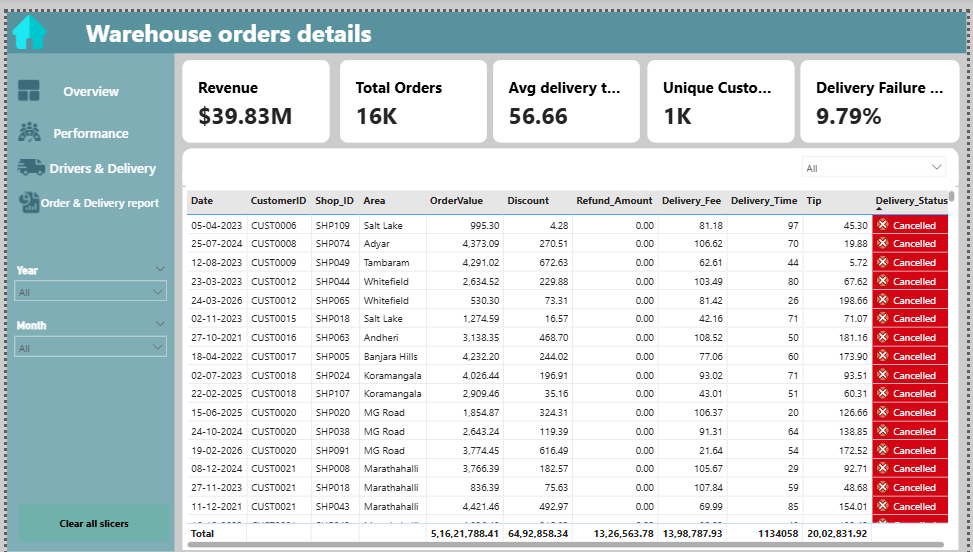

Layout of this report page (visuals, bound fields, positions):
{"tool":"powerbi","page":{"name":"Order & reports","canvas":[1280,720],"ordinal":4},"visuals":[{"type":"cardVisual","fields":{"Data":["Customers.Revenue"]},"box":[234.8,64.8,195.9,110.1],"z":0},{"type":"cardVisual","fields":{"Data":["Customers.Total Orders"]},"box":[443.7,64.8,195.9,110.1],"z":1000},{"type":"cardVisual","fields":{"Data":["Customers.Avg delivery time"]},"box":[647.7,64.8,195.9,110.1],"z":2000},{"type":"cardVisual","fields":{"Data":["Customers.Unique Customers"]},"box":[853.3,64.8,195.9,110.1],"z":3000},{"type":"cardVisual","fields":{"Data":["Customers.Delivery Failure Rate %"]},"box":[1057.4,64.8,212.1,110.1],"z":4000},{"type":"tableEx","fields":{"Values":["DateTable.Date","Orders.Customer_ID","Orders.Shop_ID","Customers.Area","Sum(Orders.Order_Value)","Sum(Orders.Discount)","Sum(Orders.Refund_Amount)","Sum(Orders.Delivery_Fee)","Sum(Orders.Delivery_Time_Min)","Sum(Orders.Tip)","Orders.Delivery_Status"]},"box":[234.8,212.1,1034.7,505.2],"z":5000},{"type":"shape","box":[0,53.4,223.5,665.5],"z":6000},{"type":"shape","box":[0,0,1279.2,55.1],"z":7000},{"type":"image","box":[4.5,4.5,52.3,45.5],"z":8000},{"type":"slicer","fields":{"Values":["DateTable.Date.Variation.Date Hierarchy.Year"]},"box":[0,330,223.3,56.7],"z":9000},{"type":"slicer","fields":{"Values":["DateTable.Date.Variation.Date Hierarchy.Month"]},"box":[0,403.3,223.3,56.7],"z":10000},{"type":"actionButton","box":[10,84.3,204.3,40],"z":11000},{"type":"actionButton","box":[10,140,204.3,40],"z":12000},{"type":"actionButton","box":[10,191.4,204.3,40],"z":13000},{"type":"actionButton","box":[10.6,234.6,203.8,40.4],"z":14000},{"type":"textbox","box":[100.4,0,424.2,64.8],"z":15000},{"type":"actionButton","box":[15,655,200,50],"z":16000},{"type":"shape","box":[234.8,181.4,1034.7,53.4],"z":17000},{"type":"slicer","fields":{"Values":["Orders.Delivery_Status"]},"box":[1049.3,181.4,212.1,40.5],"z":18000}]}

Visuals, with their boxes on the page's 1280x720 design canvas (x1, y1, x2, y2). These are canvas units, not pixel positions in the 973x552 screenshot, which may show the page scaled, cropped or inside an application window:
cardVisual - Customers.Revenue: 235:65:431:175
cardVisual - Customers.Total Orders: 444:65:640:175
cardVisual - Customers.Avg delivery time: 648:65:844:175
cardVisual - Customers.Unique Customers: 853:65:1049:175
cardVisual - Customers.Delivery Failure Rate %: 1057:65:1270:175
tableEx - DateTable.Date x Orders.Customer_ID: 235:212:1270:717
shape: 0:53:224:719
shape: 0:0:1279:55
image: 4:4:57:50
slicer - DateTable.Date.Variation.Date Hierarchy.Year: 0:330:223:387
slicer - DateTable.Date.Variation.Date Hierarchy.Month: 0:403:223:460
actionButton: 10:84:214:124
actionButton: 10:140:214:180
actionButton: 10:191:214:231
actionButton: 11:235:214:275
textbox: 100:0:525:65
actionButton: 15:655:215:705
shape: 235:181:1270:235
slicer - Orders.Delivery_Status: 1049:181:1261:222
